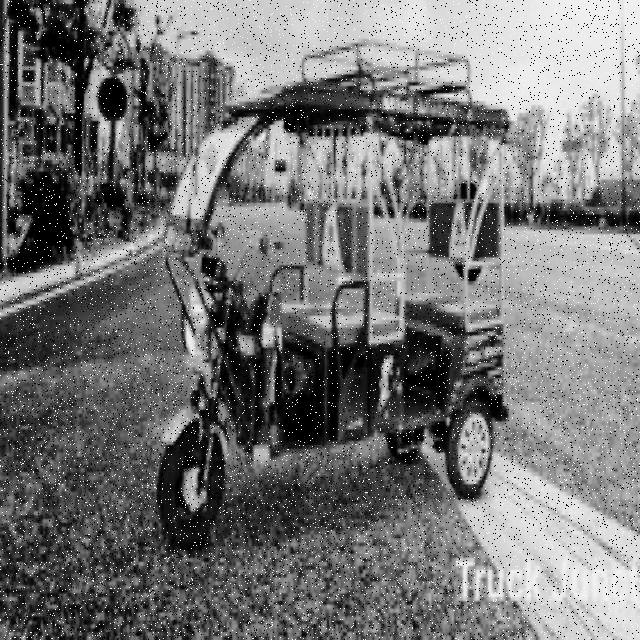Toto: (144, 77, 514, 559)
